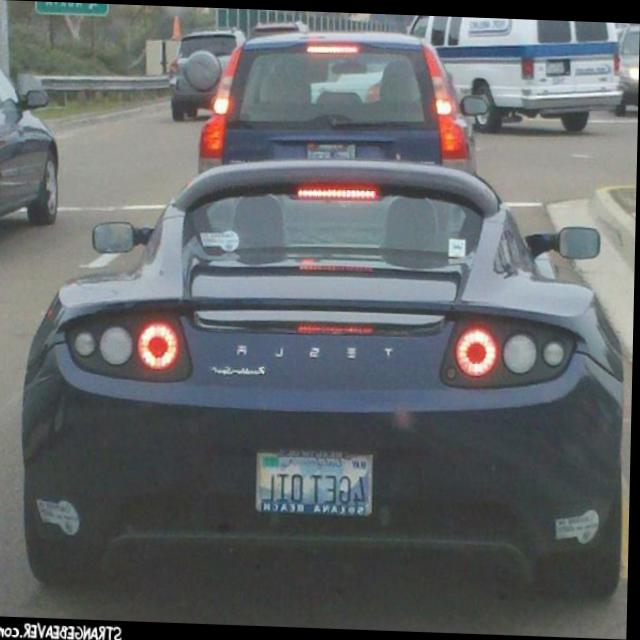licence: (261, 451, 376, 513)
